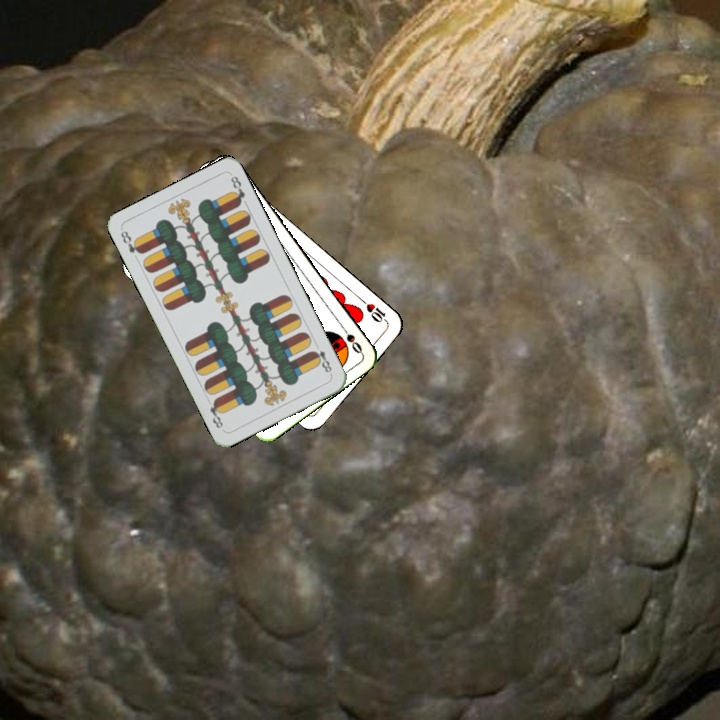E8: (308, 339, 334, 378), (116, 226, 145, 257)
H10: (356, 294, 390, 325)
SO: (336, 320, 365, 356)
